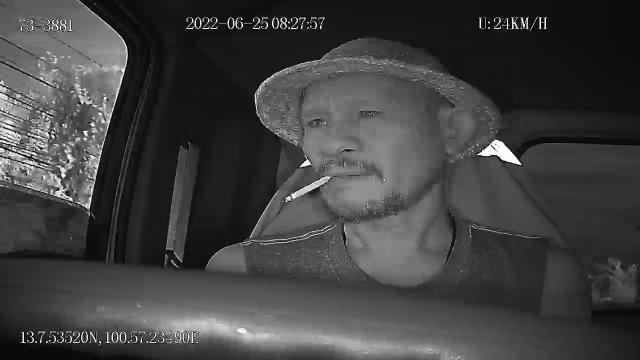SafeDriving: (350, 100, 387, 124), (301, 110, 334, 132)
Smoking: (288, 175, 332, 205)
